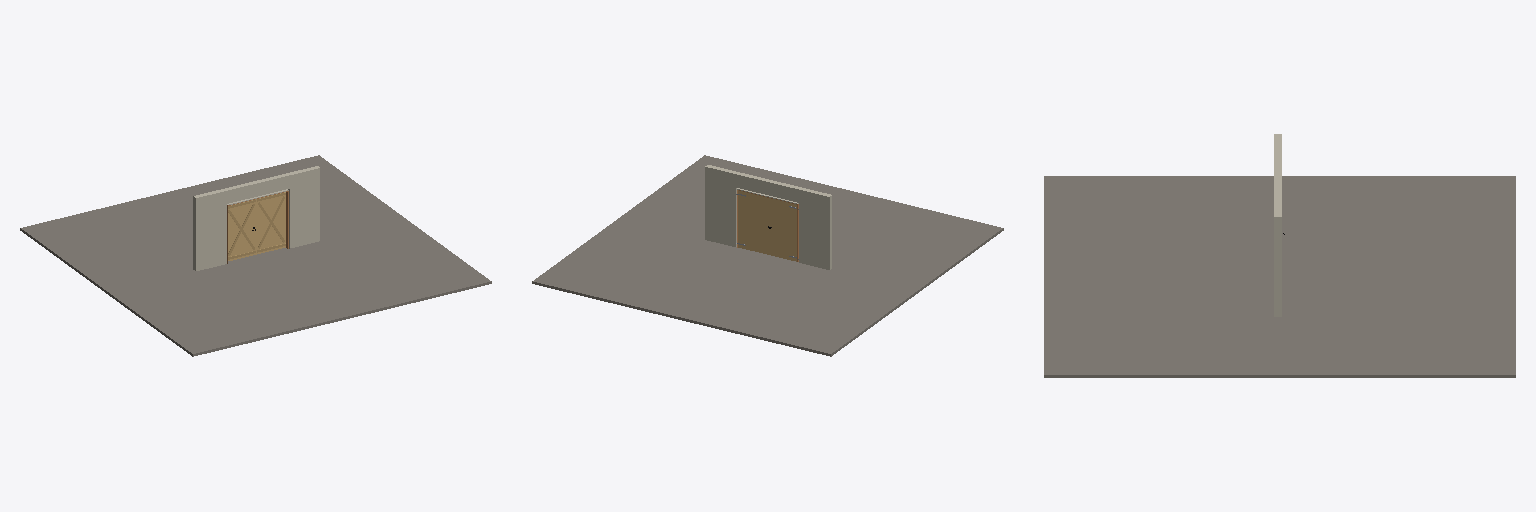
The robot description file, URDF, robot "db0918_swing_double_simple":
<?xml version="1.0" ?>
<robot xmlns:doorbench="https://github.com/adamraudonis/DoorBench/schema/urdf-ext" name="db0918_swing_double_simple">
  <link name="world_env">
    <visual name="floor_vis">
      <origin xyz="0 0 -0.05" rpy="0 0 0"/>
      <geometry>
        <box size="12 12 0.1"/>
      </geometry>
      <material name="mat_floor"/>
    </visual>
    <collision name="floor_col">
      <origin xyz="0 0 -0.05" rpy="0 0 0"/>
      <geometry>
        <box size="12 12 0.1"/>
      </geometry>
    </collision>
    <visual name="wall_left_vis">
      <origin xyz="-1.88225 -0.058 1.4065" rpy="0 0 0"/>
      <geometry>
        <box size="1.2355 0.2 2.813"/>
      </geometry>
      <material name="mat_wall"/>
    </visual>
    <collision name="wall_left_col">
      <origin xyz="-1.88225 -0.058 1.4065" rpy="0 0 0"/>
      <geometry>
        <box size="1.2355 0.2 2.813"/>
      </geometry>
    </collision>
    <visual name="wall_right_vis">
      <origin xyz="1.88225 -0.058 1.4065" rpy="0 0 0"/>
      <geometry>
        <box size="1.2355 0.2 2.813"/>
      </geometry>
      <material name="mat_wall"/>
    </visual>
    <collision name="wall_right_col">
      <origin xyz="1.88225 -0.058 1.4065" rpy="0 0 0"/>
      <geometry>
        <box size="1.2355 0.2 2.813"/>
      </geometry>
    </collision>
    <visual name="wall_header_vis">
      <origin xyz="0 -0.058 2.558" rpy="0 0 0"/>
      <geometry>
        <box size="2.529 0.2 0.51"/>
      </geometry>
      <material name="mat_wall"/>
    </visual>
    <collision name="wall_header_col">
      <origin xyz="0 -0.058 2.558" rpy="0 0 0"/>
      <geometry>
        <box size="2.529 0.2 0.51"/>
      </geometry>
    </collision>
    <visual name="hinge_pintle_0_vis">
      <origin xyz="-1.2015 0.029 0.133" rpy="0 0 0"/>
      <geometry>
        <cylinder radius="0.008" length="0.04"/>
      </geometry>
      <material name="mat_hinge"/>
    </visual>
    <visual name="hinge_pintle_1_vis">
      <origin xyz="-1.2015 0.029 2.033" rpy="0 0 0"/>
      <geometry>
        <cylinder radius="0.008" length="0.04"/>
      </geometry>
      <material name="mat_hinge"/>
    </visual>
    <visual name="hinge_pintle_0_2_vis">
      <origin xyz="1.2015 0.029 0.133" rpy="0 0 0"/>
      <geometry>
        <cylinder radius="0.008" length="0.04"/>
      </geometry>
      <material name="mat_hinge"/>
    </visual>
    <visual name="hinge_pintle_1_2_vis">
      <origin xyz="1.2015 0.029 2.033" rpy="0 0 0"/>
      <geometry>
        <cylinder radius="0.008" length="0.04"/>
      </geometry>
      <material name="mat_hinge"/>
    </visual>
    <visual name="jamb_l_vis">
      <origin xyz="-1.214 -0.058 1.1065" rpy="0 0 0"/>
      <geometry>
        <box size="0.019 0.2 2.213"/>
      </geometry>
      <material name="mat_frame"/>
    </visual>
    <collision name="jamb_l_col">
      <origin xyz="-1.214 -0.058 1.1065" rpy="0 0 0"/>
      <geometry>
        <box size="0.019 0.2 2.213"/>
      </geometry>
    </collision>
    <visual name="jamb_r_vis">
      <origin xyz="1.214 -0.058 1.1065" rpy="0 0 0"/>
      <geometry>
        <box size="0.019 0.2 2.213"/>
      </geometry>
      <material name="mat_frame"/>
    </visual>
    <collision name="jamb_r_col">
      <origin xyz="1.214 -0.058 1.1065" rpy="0 0 0"/>
      <geometry>
        <box size="0.019 0.2 2.213"/>
      </geometry>
    </collision>
    <visual name="jamb_head_vis">
      <origin xyz="0 -0.058 2.2225" rpy="0 0 0"/>
      <geometry>
        <box size="2.447 0.2 0.019"/>
      </geometry>
      <material name="mat_frame"/>
    </visual>
    <collision name="jamb_head_col">
      <origin xyz="0 -0.058 2.2225" rpy="0 0 0"/>
      <geometry>
        <box size="2.447 0.2 0.019"/>
      </geometry>
    </collision>
    <visual name="head_stud_vis">
      <origin xyz="0 -0.058 2.247" rpy="0 0 0"/>
      <geometry>
        <box size="2.447 0.2 0.03"/>
      </geometry>
      <material name="mat_wall"/>
    </visual>
    <collision name="head_stud_col">
      <origin xyz="0 -0.058 2.247" rpy="0 0 0"/>
      <geometry>
        <box size="2.447 0.2 0.03"/>
      </geometry>
    </collision>
    <visual name="hinge_pintle_0_strap_0_vis">
      <origin xyz="-1.237 0.029 0.133" rpy="0 0 0"/>
      <geometry>
        <box size="0.056 0.0128 0.032"/>
      </geometry>
      <material name="mat_hinge"/>
    </visual>
    <visual name="hinge_pintle_0_strap_1_vis">
      <origin xyz="1.237 0.029 0.133" rpy="0 0 0"/>
      <geometry>
        <box size="0.056 0.0128 0.032"/>
      </geometry>
      <material name="mat_hinge"/>
    </visual>
    <visual name="hinge_pintle_1_strap_0_vis">
      <origin xyz="-1.237 0.029 2.033" rpy="0 0 0"/>
      <geometry>
        <box size="0.056 0.0128 0.032"/>
      </geometry>
      <material name="mat_hinge"/>
    </visual>
    <visual name="hinge_pintle_1_strap_1_vis">
      <origin xyz="1.237 0.029 2.033" rpy="0 0 0"/>
      <geometry>
        <box size="0.056 0.0128 0.032"/>
      </geometry>
      <material name="mat_hinge"/>
    </visual>
  </link>
  <link name="leaf_a">
    <inertial>
      <origin xyz="0.588409 -0.027989 1.108012" rpy="0 0 0"/>
      <mass value="47.355459"/>
      <inertia ixx="19.799904454" ixy="0.021760027" ixz="0.023712386" iyy="25.744431651" iyz="-0.000973703" izz="5.965546659"/>
    </inertial>
    <visual name="leaf_a_slab_vis">
      <origin xyz="0.6 -0.029 1.109" rpy="0 0 0"/>
      <geometry>
        <box size="1.2 0.044 2.2"/>
      </geometry>
      <material name="mat_leaf_a"/>
    </visual>
    <collision name="leaf_a_slab_col">
      <origin xyz="0.6 -0.029 1.109" rpy="0 0 0"/>
      <geometry>
        <box size="1.2 0.044 2.2"/>
      </geometry>
    </collision>
    <visual name="leaf_a_batten_12_vis">
      <origin xyz="0.6 -0.061 0.129" rpy="0 0 0"/>
      <geometry>
        <box size="1.14 0.02 0.09"/>
      </geometry>
      <material name="mat_leaf_a_brace"/>
    </visual>
    <visual name="leaf_a_batten_208_vis">
      <origin xyz="0.6 -0.061 2.089" rpy="0 0 0"/>
      <geometry>
        <box size="1.14 0.02 0.09"/>
      </geometry>
      <material name="mat_leaf_a_brace"/>
    </visual>
    <visual name="leaf_a_brace_z_vis">
      <origin xyz="0.6 -0.061 1.109" rpy="0 -1.034361 0"/>
      <geometry>
        <box size="2.032324 0.02 0.09"/>
      </geometry>
      <material name="mat_leaf_a_brace"/>
    </visual>
    <visual name="leaf_a_brace_x_vis">
      <origin xyz="0.6 -0.061 1.109" rpy="0 1.034361 0"/>
      <geometry>
        <box size="2.032324 0.02 0.09"/>
      </geometry>
      <material name="mat_leaf_a_brace"/>
    </visual>
    <visual name="hinge_strap_0_vis">
      <origin xyz="0 -0.004 0.159" rpy="0 0 0"/>
      <geometry>
        <mesh filename="../../hardware/strap_hinge_78d1bbb966.obj"/>
      </geometry>
      <material name="mat_hinge"/>
    </visual>
    <visual name="hinge_strap_eye_0_vis">
      <origin xyz="0 0 0.159" rpy="0 0 0"/>
      <geometry>
        <cylinder radius="0.011" length="0.024"/>
      </geometry>
      <material name="mat_hinge"/>
    </visual>
    <visual name="hinge_strap_neck_0_vis">
      <origin xyz="0 -0.002 0.159" rpy="0 0 0"/>
      <geometry>
        <box size="0.024 0.012 0.012"/>
      </geometry>
      <material name="mat_hinge"/>
    </visual>
    <visual name="hinge_strap_1_vis">
      <origin xyz="0 -0.004 2.059" rpy="0 0 0"/>
      <geometry>
        <mesh filename="../../hardware/strap_hinge_78d1bbb966.obj"/>
      </geometry>
      <material name="mat_hinge"/>
    </visual>
    <visual name="hinge_strap_eye_1_vis">
      <origin xyz="0 0 2.059" rpy="0 0 0"/>
      <geometry>
        <cylinder radius="0.011" length="0.024"/>
      </geometry>
      <material name="mat_hinge"/>
    </visual>
    <visual name="hinge_strap_neck_1_vis">
      <origin xyz="0 -0.002 2.059" rpy="0 0 0"/>
      <geometry>
        <box size="0.024 0.012 0.012"/>
      </geometry>
      <material name="mat_hinge"/>
    </visual>
    <visual name="leaf_a_ring_pull_n_vis">
      <origin xyz="1.095 -0.051 1.05" rpy="1.570796 0 0"/>
      <geometry>
        <mesh filename="../../hardware/ring_cc5c941a8a.obj"/>
      </geometry>
      <material name="mat_op_wrought_iron"/>
    </visual>
    <collision name="leaf_a_ring_pull_col_n_col">
      <origin xyz="1.095 -0.083 0.99" rpy="0 1.570796 0"/>
      <geometry>
        <cylinder radius="0.008" length="0.1"/>
      </geometry>
    </collision>
    <visual name="leaf_a_ring_pull_p_vis">
      <origin xyz="1.095 -0.007 1.05" rpy="-1.570796 0 0"/>
      <geometry>
        <mesh filename="../../hardware/ring_cc5c941a8a.obj"/>
      </geometry>
      <material name="mat_op_wrought_iron"/>
    </visual>
    <collision name="leaf_a_ring_pull_col_p_col">
      <origin xyz="1.095 0.025 0.99" rpy="0 1.570796 0"/>
      <geometry>
        <cylinder radius="0.008" length="0.1"/>
      </geometry>
    </collision>
  </link>
  <link name="leaf_b">
    <inertial>
      <origin xyz="-0.581221 -0.027974 1.109" rpy="0 0 0"/>
      <mass value="47.272541"/>
      <inertia ixx="20.03887818" ixy="-0.021681591" ixz="0" iyy="25.8839202" iyz="0" izz="5.862158125"/>
    </inertial>
    <visual name="leaf_b_slab_vis">
      <origin xyz="-0.6 -0.029 1.109" rpy="0 0 0"/>
      <geometry>
        <box size="1.2 0.044 2.2"/>
      </geometry>
      <material name="mat_leaf_b"/>
    </visual>
    <collision name="leaf_b_slab_col">
      <origin xyz="-0.6 -0.029 1.109" rpy="0 0 0"/>
      <geometry>
        <box size="1.2 0.044 2.2"/>
      </geometry>
    </collision>
    <visual name="leaf_b_batten_12_vis">
      <origin xyz="-0.6 -0.061 0.129" rpy="0 0 0"/>
      <geometry>
        <box size="1.14 0.02 0.09"/>
      </geometry>
      <material name="mat_leaf_b_brace"/>
    </visual>
    <visual name="leaf_b_batten_208_vis">
      <origin xyz="-0.6 -0.061 2.089" rpy="0 0 0"/>
      <geometry>
        <box size="1.14 0.02 0.09"/>
      </geometry>
      <material name="mat_leaf_b_brace"/>
    </visual>
    <visual name="leaf_b_brace_z_vis">
      <origin xyz="-0.6 -0.061 1.109" rpy="0 1.034361 0"/>
      <geometry>
        <box size="2.032324 0.02 0.09"/>
      </geometry>
      <material name="mat_leaf_b_brace"/>
    </visual>
    <visual name="leaf_b_brace_x_vis">
      <origin xyz="-0.6 -0.061 1.109" rpy="0 -1.034361 0"/>
      <geometry>
        <box size="2.032324 0.02 0.09"/>
      </geometry>
      <material name="mat_leaf_b_brace"/>
    </visual>
    <visual name="hinge_strap_0_2_vis">
      <origin xyz="0 -0.004 0.159" rpy="0 0 3.141593"/>
      <geometry>
        <mesh filename="../../hardware/strap_hinge_78d1bbb966.obj"/>
      </geometry>
      <material name="mat_hinge"/>
    </visual>
    <visual name="hinge_strap_eye_0_2_vis">
      <origin xyz="0 0 0.159" rpy="0 0 0"/>
      <geometry>
        <cylinder radius="0.011" length="0.024"/>
      </geometry>
      <material name="mat_hinge"/>
    </visual>
    <visual name="hinge_strap_neck_0_2_vis">
      <origin xyz="0 -0.002 0.159" rpy="0 0 0"/>
      <geometry>
        <box size="0.024 0.012 0.012"/>
      </geometry>
      <material name="mat_hinge"/>
    </visual>
    <visual name="hinge_strap_1_2_vis">
      <origin xyz="0 -0.004 2.059" rpy="0 0 3.141593"/>
      <geometry>
        <mesh filename="../../hardware/strap_hinge_78d1bbb966.obj"/>
      </geometry>
      <material name="mat_hinge"/>
    </visual>
    <visual name="hinge_strap_eye_1_2_vis">
      <origin xyz="0 0 2.059" rpy="0 0 0"/>
      <geometry>
        <cylinder radius="0.011" length="0.024"/>
      </geometry>
      <material name="mat_hinge"/>
    </visual>
    <visual name="hinge_strap_neck_1_2_vis">
      <origin xyz="0 -0.002 2.059" rpy="0 0 0"/>
      <geometry>
        <box size="0.024 0.012 0.012"/>
      </geometry>
      <material name="mat_hinge"/>
    </visual>
  </link>
  <joint name="leaf_a_hinge" type="revolute">
    <origin xyz="-1.2015 0.029 0" rpy="0 0 0"/>
    <parent link="world_env"/>
    <child link="leaf_a"/>
    <axis xyz="0 0 1"/>
    <limit lower="0" upper="1.396263" effort="2000" velocity="10"/>
    <dynamics damping="0.873883" friction="15.165791"/>
    <doorbench:closer damping_closing="0" damping_opening="0" backcheck_angle="0" backcheck_damping="0"/>
  </joint>
  <joint name="leaf_b_hinge" type="revolute">
    <origin xyz="1.2015 0.029 0" rpy="0 0 0"/>
    <parent link="world_env"/>
    <child link="leaf_b"/>
    <axis xyz="0 0 -1"/>
    <limit lower="0" upper="0.001" effort="2000" velocity="10"/>
    <dynamics damping="0.873883" friction="15.165791"/>
    <doorbench:closer damping_closing="0" damping_opening="0" backcheck_angle="0" backcheck_damping="0"/>
    <doorbench:note text="inactive leaf held by flush bolts; set range to free it"/>
  </joint>
  <material name="mat_floor">
    <color rgba="0.55 0.53 0.5 1"/>
  </material>
  <material name="mat_frame">
    <color rgba="0.75 0.55 0.38 1"/>
  </material>
  <material name="mat_hinge">
    <color rgba="0.65 0.66 0.68 1"/>
  </material>
  <material name="mat_leaf_a">
    <color rgba="0.82 0.7 0.5 1"/>
  </material>
  <material name="mat_leaf_a_brace">
    <color rgba="0.738 0.63 0.45 1"/>
  </material>
  <material name="mat_leaf_b">
    <color rgba="0.82 0.7 0.5 1"/>
  </material>
  <material name="mat_leaf_b_brace">
    <color rgba="0.738 0.63 0.45 1"/>
  </material>
  <material name="mat_op_wrought_iron">
    <color rgba="0.08 0.08 0.09 1"/>
  </material>
  <material name="mat_wall">
    <color rgba="0.78 0.76 0.7 1"/>
  </material>
</robot>

--- Render facts (derived) ---
The picture shows the robot from 3 angles, left to right: view 1: azimuth 30°, elevation 25°; view 2: azimuth 150°, elevation 25°; view 3: azimuth 270°, elevation 25°; orthographic projection.
Robot: db0918_swing_double_simple — 3 links, 2 joints (2 revolute); root link world_env; default pose: all joints at 0.
Visible links, largest first — view 1: world_env, leaf_b, leaf_a; view 2: world_env, leaf_b, leaf_a; view 3: world_env.
Link boxes in pixels (left/top/right/bottom): world_env: left=20, top=155, right=491, bottom=356; leaf_b: left=256, top=192, right=285, bottom=254; leaf_a: left=228, top=199, right=255, bottom=260; world_env: left=532, top=155, right=1003, bottom=356; leaf_b: left=737, top=190, right=767, bottom=254; leaf_a: left=768, top=198, right=796, bottom=261; world_env: left=1044, top=134, right=1515, bottom=377.
Bounding box of the posed robot: 12 × 12 × 2.91 m (x, y, z).
Meshes: 2 distinct files referenced, 6 mesh visuals loaded (2 OBJ).
